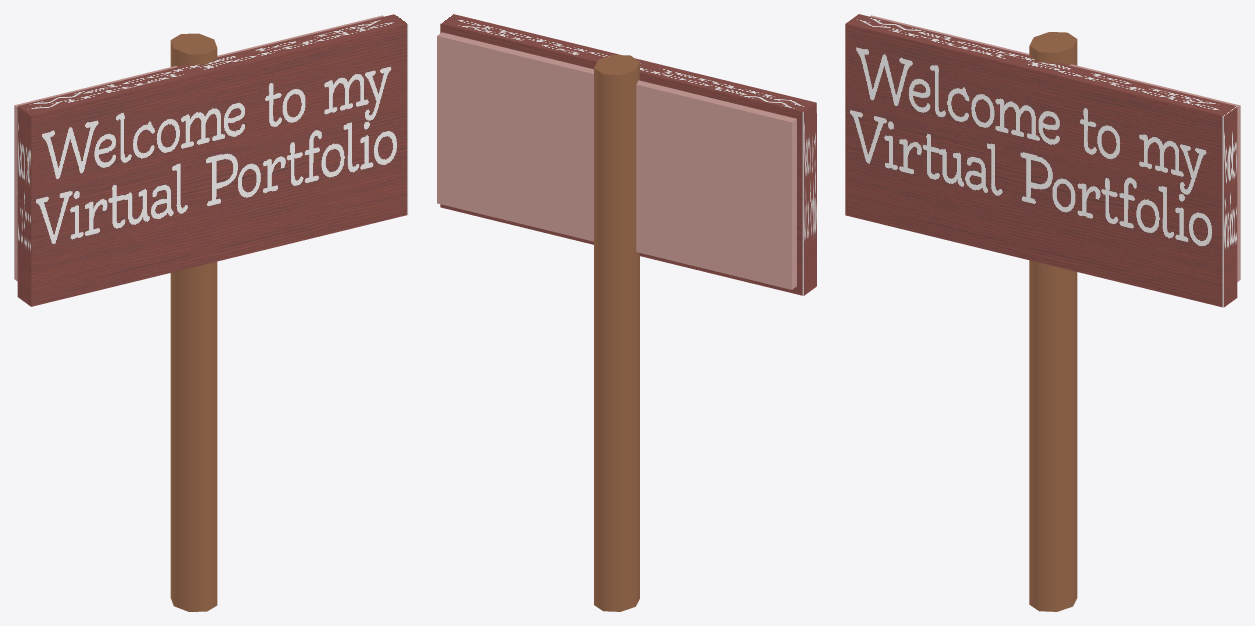
3 views of the same model, side by side, from view 1: azimuth 30°, elevation 25°; view 2: azimuth 150°, elevation 25°; view 3: azimuth 330°, elevation 25° (orthographic). The views are drawn at different scales.
Parts seen in each view (by area): view 1: Box (×2), Cylinder; view 2: Box (×2), Cylinder; view 3: Box (×2), Cylinder.
Part boxes in pixels (x1,y1,x2,y2): Box (×2): (14, 14, 408, 306); Cylinder: (170, 33, 217, 611); Box (×2): (437, 14, 816, 295); Cylinder: (594, 54, 639, 611); Box (×2): (845, 14, 1240, 307); Cylinder: (1029, 32, 1077, 611).
Bounding box in the file's own units: 4.18 × 5.9 × 0.6891.
3 materials, 1 textured.
